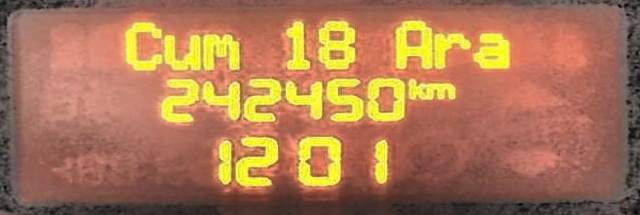0: (290, 132, 345, 188), (363, 75, 404, 123)
1: (279, 17, 313, 72), (363, 133, 395, 186), (205, 133, 233, 186)
2: (233, 133, 282, 188), (154, 76, 198, 124), (241, 75, 281, 124)
4: (282, 76, 323, 121), (199, 77, 239, 122)
5: (323, 75, 362, 124)
8: (314, 17, 358, 72)
X: (120, 16, 163, 75), (387, 17, 430, 72), (201, 31, 243, 72), (472, 28, 512, 71), (431, 28, 470, 71), (163, 30, 199, 73), (423, 81, 455, 101), (404, 75, 423, 101)
